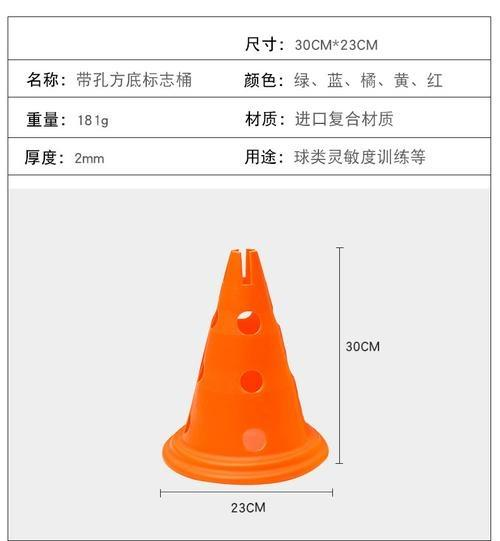cone_barrel: (159, 242, 328, 474)
